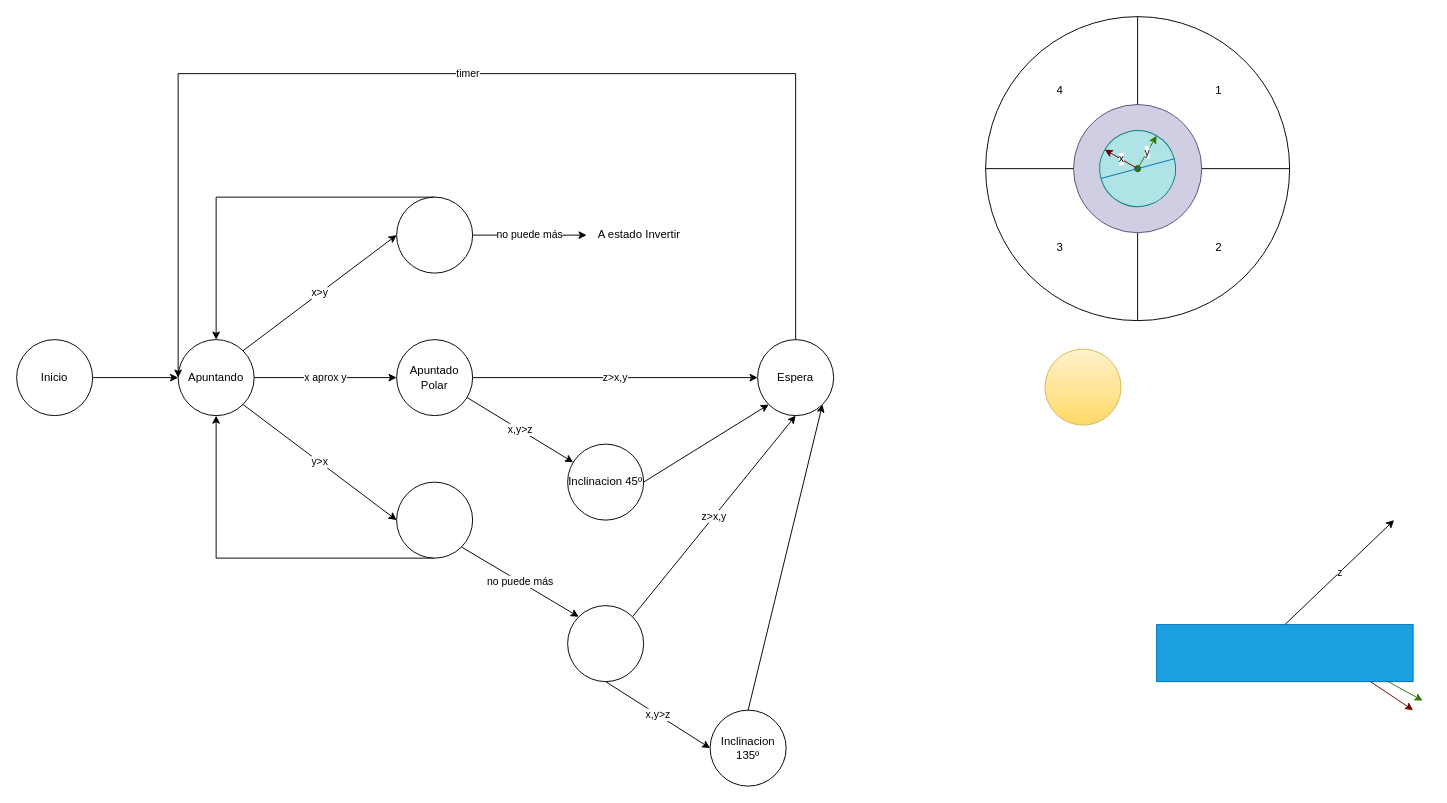
Some shapes in this 1447 by 803 pixel diagram are drawn without their labels. Here are the shapes that lost their labels. From the top down, the centre of each, then its label:
the point at 434,234: RotarAX
the point at 434,519: RotarAY
the point at 605,643: Invertir
